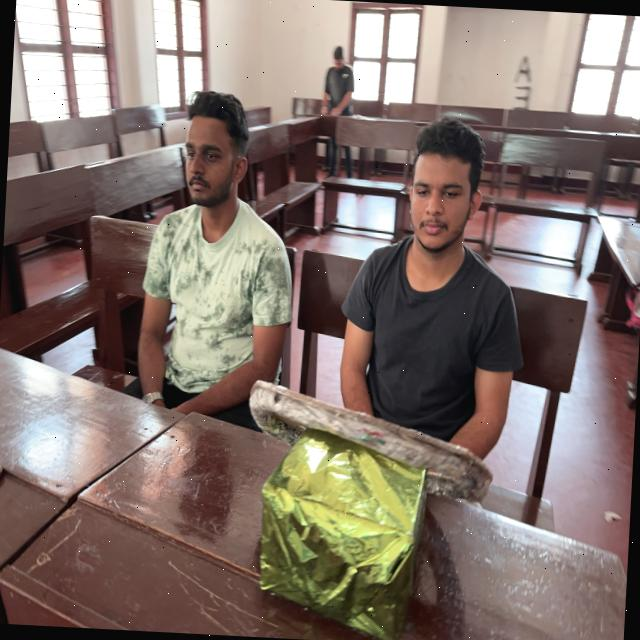Helmet: (334, 240, 532, 446), (129, 201, 301, 431)
